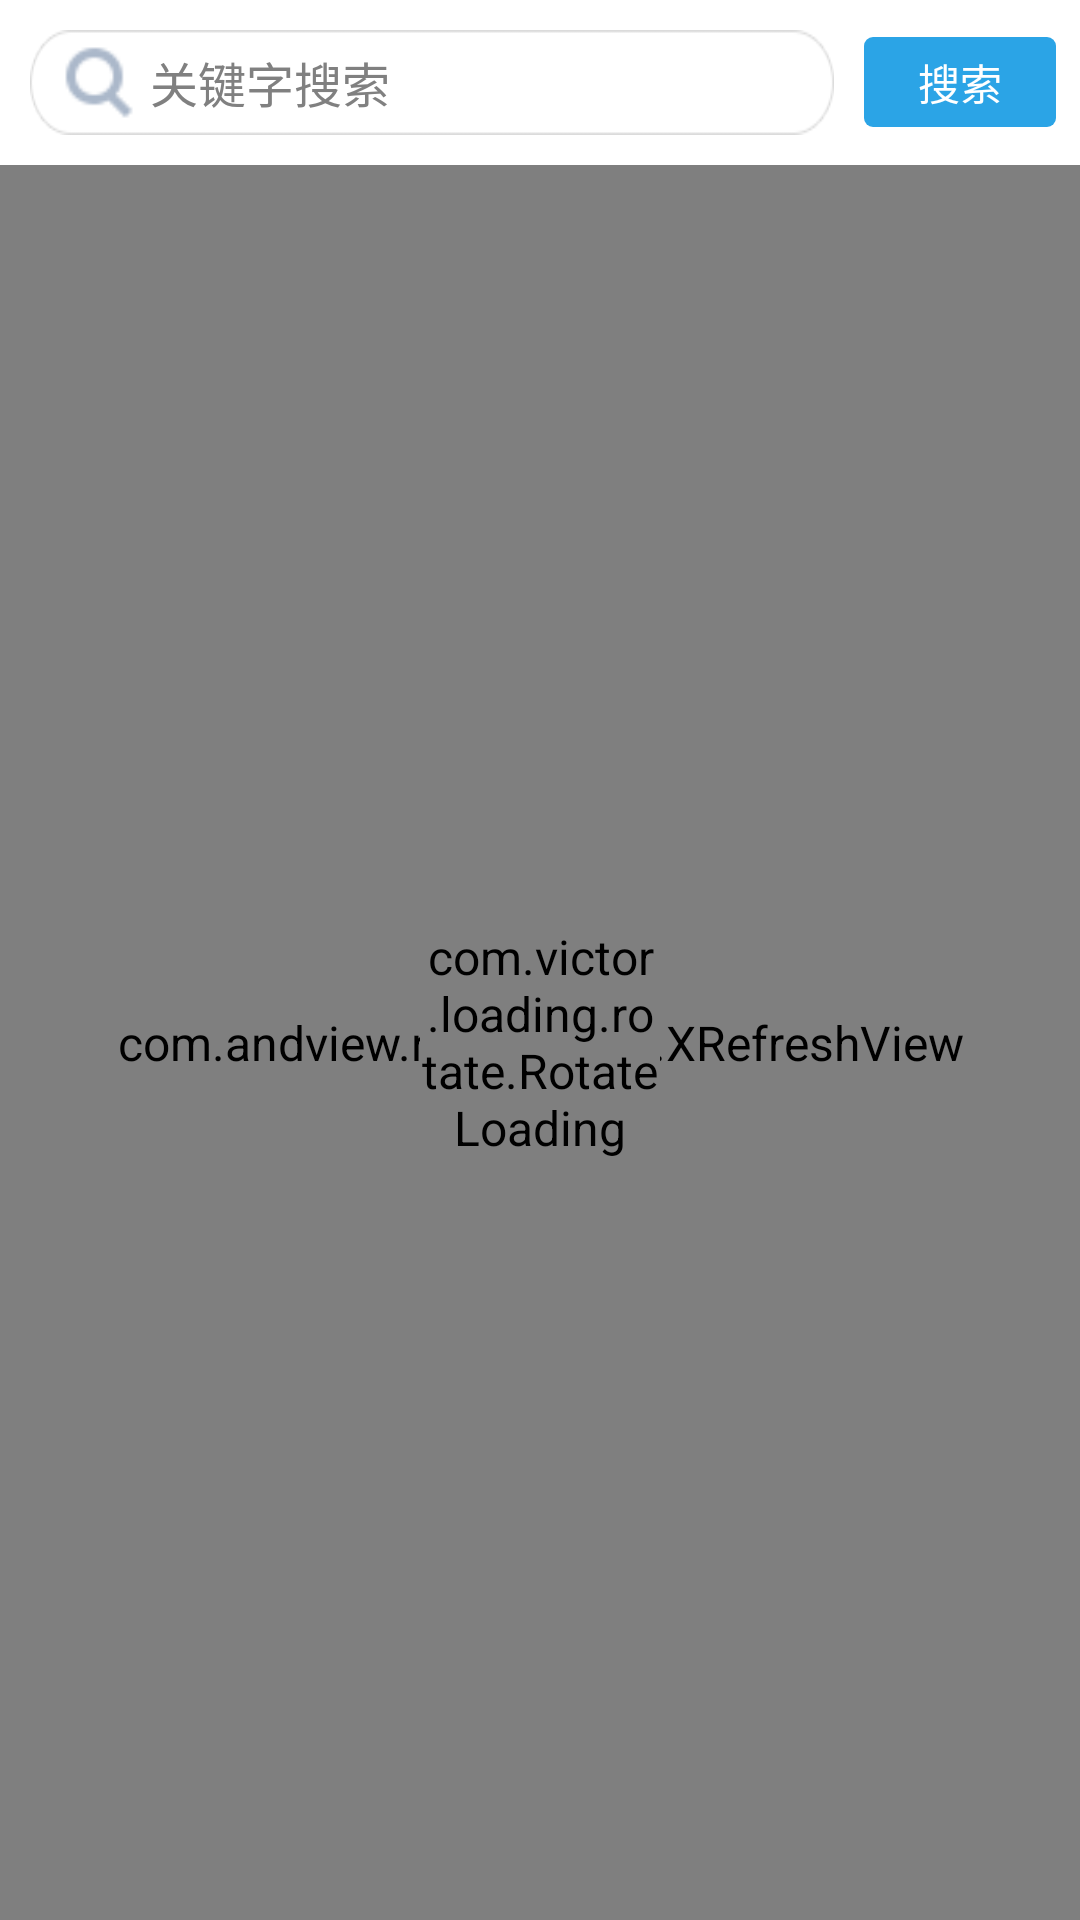

Screen size 1080×1920. Icon name, then its center in pixels as [x,y]:
search: [99,82]
